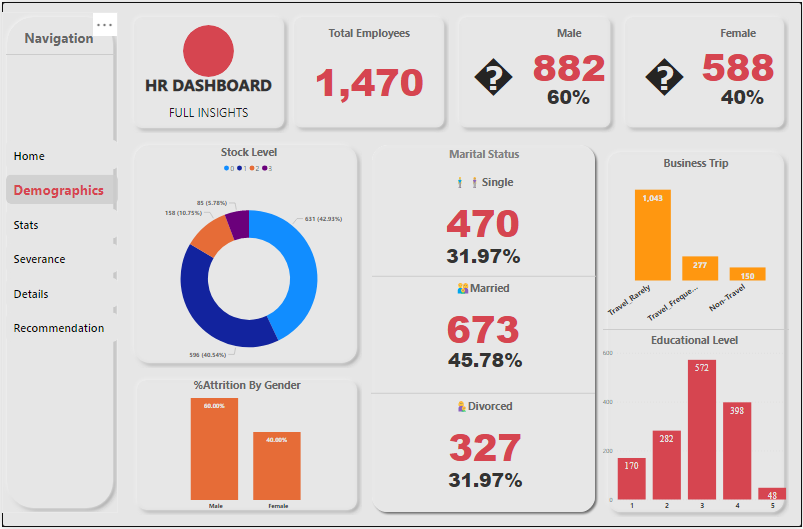

The page's visual inventory and layout, read from the dashboard file:
{"tool":"powerbi","page":{"name":"Demographics","canvas":[1600,1050],"ordinal":1},"visuals":[{"type":"shape","box":[260,746,460,280],"z":0},{"type":"shape","box":[253.3,20,320,241.7],"z":1000},{"type":"shape","box":[573.9,20,320,241.1],"z":2000},{"type":"shape","box":[903.7,20,323.2,241.1],"z":3000},{"type":"shape","box":[1236.1,20,337.8,241.1],"z":4000},{"type":"shape","box":[254,276,466,456],"z":5000},{"type":"textbox","box":[260,138,306,78],"z":6000},{"type":"textbox","box":[260,198,306,78],"z":7000},{"type":"shape","box":[362,46,102,104],"z":8000},{"type":"card","title":"Total Employees","fields":{"Values":["All Measures.Total Emp"]},"box":[584,46,300,192],"z":9000},{"type":"card","title":"Male","fields":{"Values":["All Measures.Males"]},"box":[1054.3,45.7,160,131.4],"z":10000},{"type":"card","title":"Male","fields":{"Values":["All Measures.% Males"]},"box":[1064,146,138,86],"z":11000},{"type":"card","title":"Female","fields":{"Values":["All Measures.Females"]},"box":[1382,46,180,132],"z":12000},{"type":"card","title":"Male","fields":{"Values":["All Measures.% Females"]},"box":[1412,146,138,86],"z":13000},{"type":"shape","title":"🙎♀️","box":[1286,84,96,106],"z":14000},{"type":"shape","title":"🙎♂️","box":[944,84,96,106],"z":15000},{"type":"shape","box":[730,276,466,754],"z":16000},{"type":"shape","box":[1202,290,372,740],"z":17000},{"type":"columnChart","title":"Business Trip","fields":{"Y":["All Measures.Total Emp"],"Category":["HR Analytics Data.BusinessTravel"]},"box":[1202,306,372,348],"z":18000},{"type":"shape","box":[1202,650,372,10],"z":19000},{"type":"columnChart","title":"Educational Level","fields":{"Y":["All Measures.Total Emp"],"Category":["HR Analytics Data.Education"]},"box":[1196,660,378,366],"z":20000},{"type":"donutChart","title":"Stock Level","fields":{"Category":["HR Analytics Data.StockOptionLevel"],"Y":["All Measures.Total Emp"]},"box":[268,284,452,482],"z":21000},{"type":"columnChart","title":"%Attrition By Gender","fields":{"Category":["HR Analytics Data.Gender"],"Y":["Divide(CountNonNull(HR Analytics Data.Attrition), ScopedEval(CountNonNull(HR Analytics Data.Attrition), []))"]},"box":[260,750,460,276],"z":22000},{"type":"card","title":"🧍♂️🧍♀️Single","fields":{"Values":["All Measures.🧍♀️🧍♂️Single"]},"box":[736.7,343.3,451.7,160],"z":23000},{"type":"textbox","box":[813.3,283.3,300,41.7],"z":24000},{"type":"card","title":"🧍♂️🧍♀️Single","fields":{"Values":["All Measures.% Single"]},"box":[876.7,458.3,173.3,96.7],"z":25000},{"type":"card","title":"🧍♂️🧍♀️Single","fields":{"Values":["All Measures.% Married"]},"box":[880,666.7,173.3,96.7],"z":26000},{"type":"card","title":"🧍♂️🧍♀️Single","fields":{"Values":["All Measures.% Single"]},"box":[880,905,173.3,96.7],"z":27000},{"type":"card","title":"👨👩👦Married","fields":{"Values":["All Measures.Married"]},"box":[736.7,556.7,451.7,160],"z":28000},{"type":"card","title":"👩👦Divorced","fields":{"Values":["All Measures.Divorced"]},"box":[740,791.7,451.7,160],"z":29000},{"type":"shape","box":[740,541.7,448.3,13.3],"z":30000},{"type":"shape","box":[738.3,776.7,448.3,13.3],"z":31000},{"type":"shape","box":[0,20,232,1002],"z":32000},{"type":"textbox","box":[22,48,184,50],"z":33000},{"type":"shape","box":[8,98,218,14],"z":34000},{"type":"pageNavigator","title":"Page navigator","box":[8,276,224,406],"z":35000}]}

Visuals, with their boxes in screenshot pixels (x1, y1, x2, y2), scaled from the page's 1600x1050 canvas onto the 803x529 screenshot:
shape: (x1=130, y1=376, x2=361, y2=517)
shape: (x1=127, y1=10, x2=288, y2=132)
shape: (x1=288, y1=10, x2=449, y2=132)
shape: (x1=454, y1=10, x2=616, y2=132)
shape: (x1=620, y1=10, x2=790, y2=132)
shape: (x1=127, y1=139, x2=361, y2=369)
textbox: (x1=130, y1=70, x2=284, y2=109)
textbox: (x1=130, y1=100, x2=284, y2=139)
shape: (x1=182, y1=23, x2=233, y2=76)
"Total Employees" card: (x1=293, y1=23, x2=444, y2=120)
"Male" card: (x1=529, y1=23, x2=609, y2=89)
"Male" card: (x1=534, y1=74, x2=603, y2=117)
"Female" card: (x1=694, y1=23, x2=784, y2=90)
"Male" card: (x1=709, y1=74, x2=778, y2=117)
"🙎♀️" shape: (x1=645, y1=42, x2=694, y2=96)
"🙎♂️" shape: (x1=474, y1=42, x2=522, y2=96)
shape: (x1=366, y1=139, x2=600, y2=519)
shape: (x1=603, y1=146, x2=790, y2=519)
"Business Trip" columnChart: (x1=603, y1=154, x2=790, y2=329)
shape: (x1=603, y1=327, x2=790, y2=333)
"Educational Level" columnChart: (x1=600, y1=333, x2=790, y2=517)
"Stock Level" donutChart: (x1=135, y1=143, x2=361, y2=386)
"%Attrition By Gender" columnChart: (x1=130, y1=378, x2=361, y2=517)
"🧍♂️🧍♀️Single" card: (x1=370, y1=173, x2=596, y2=254)
textbox: (x1=408, y1=143, x2=559, y2=164)
"🧍♂️🧍♀️Single" card: (x1=440, y1=231, x2=527, y2=280)
"🧍♂️🧍♀️Single" card: (x1=442, y1=336, x2=529, y2=385)
"🧍♂️🧍♀️Single" card: (x1=442, y1=456, x2=529, y2=505)
"👨👩👦Married" card: (x1=370, y1=280, x2=596, y2=361)
"👩👦Divorced" card: (x1=371, y1=399, x2=598, y2=479)
shape: (x1=371, y1=273, x2=596, y2=280)
shape: (x1=371, y1=391, x2=596, y2=398)
shape: (x1=0, y1=10, x2=116, y2=515)
textbox: (x1=11, y1=24, x2=103, y2=49)
shape: (x1=4, y1=49, x2=113, y2=56)
"Page navigator" pageNavigator: (x1=4, y1=139, x2=116, y2=344)
